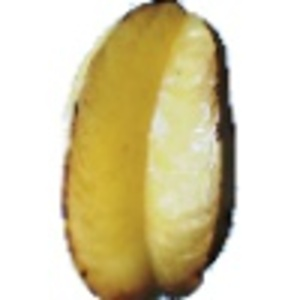carambola: (59, 1, 238, 300)
